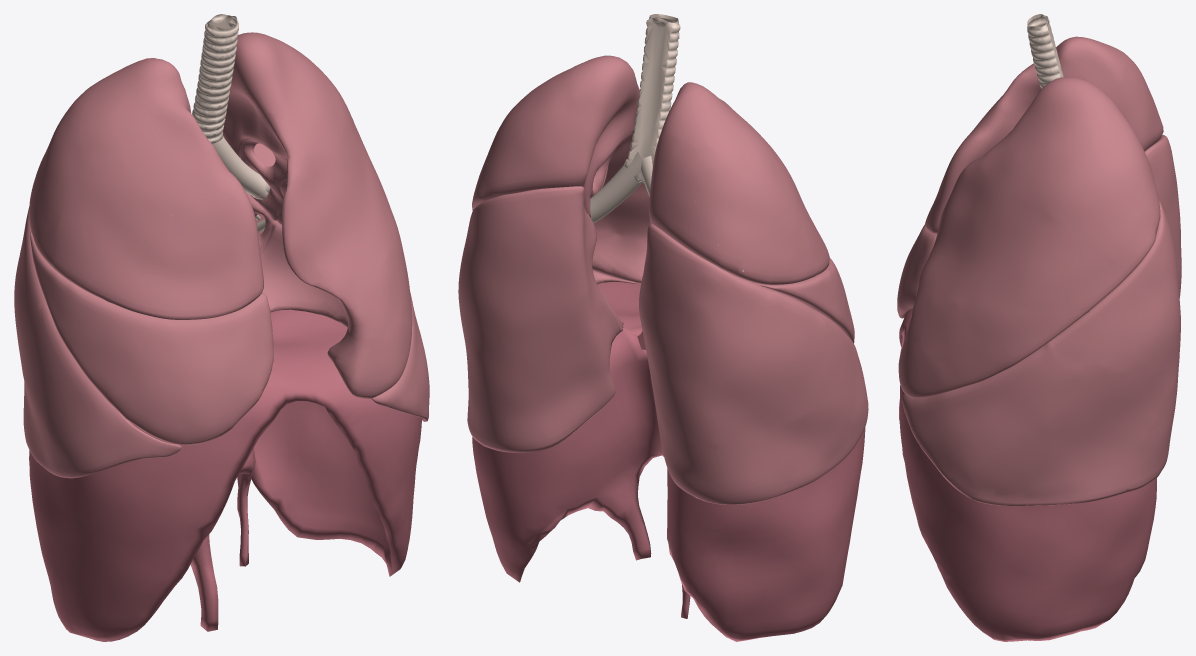
The model's file is respiratory-atlas.glb.
3 renders of one model, left to right at view 1: azimuth 30°, elevation 25°; view 2: azimuth 150°, elevation 25°; view 3: azimuth 270°, elevation 25°, orthographic. The views are drawn at different scales.
Visible parts, largest first — view 1: diaphragm, right_upper, left_upper, right_middle, right_lower, left_lower, trachea, airway_left_main_bronchus; view 2: diaphragm, right_lower, left_lower, right_upper, left_upper, trachea, right_middle, airway_left_main_bronchus; view 3: left_upper, left_lower, diaphragm, right_upper, right_lower, trachea, right_middle.
Boxes of the visible parts, bbox=[...] form: diaphragm: bbox=[29, 309, 422, 641]; right_upper: bbox=[29, 58, 263, 319]; left_upper: bbox=[223, 32, 412, 398]; right_middle: bbox=[29, 231, 273, 445]; right_lower: bbox=[14, 207, 181, 478]; left_lower: bbox=[246, 143, 429, 421]; trachea: bbox=[192, 14, 238, 143]; airway_left_main_bronchus: bbox=[213, 137, 265, 196]; diaphragm: bbox=[472, 282, 865, 641]; right_lower: bbox=[639, 224, 868, 504]; left_lower: bbox=[458, 186, 635, 452]; right_upper: bbox=[649, 82, 829, 284]; left_upper: bbox=[472, 55, 650, 282]; trachea: bbox=[624, 14, 680, 183]; right_middle: bbox=[751, 258, 854, 343]; airway_left_main_bronchus: bbox=[590, 152, 641, 222]; left_upper: bbox=[898, 77, 1160, 397]; left_lower: bbox=[902, 199, 1180, 505]; diaphragm: bbox=[899, 308, 1156, 641]; right_upper: bbox=[925, 36, 1163, 233]; right_lower: bbox=[1144, 135, 1181, 297]; trachea: bbox=[1027, 14, 1063, 88]; right_middle: bbox=[897, 224, 936, 318].
Bounding box in the file's own units: 0.261 × 0.4202 × 0.1857.
